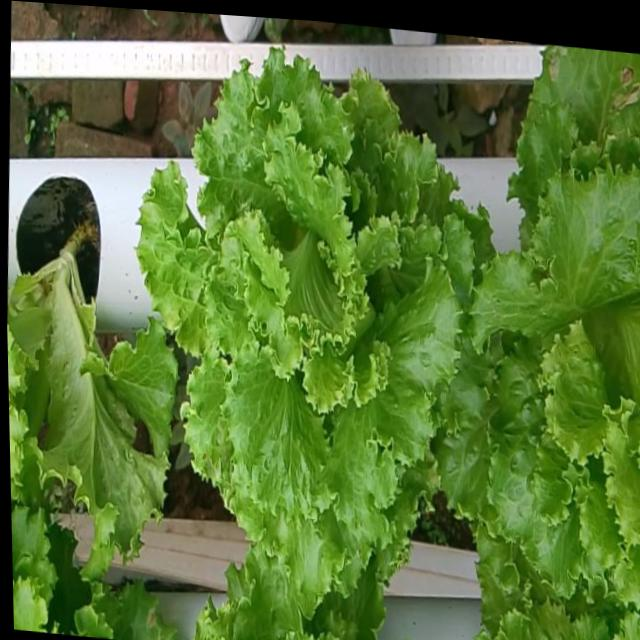Mature: (148, 38, 483, 581), (447, 148, 640, 585)
